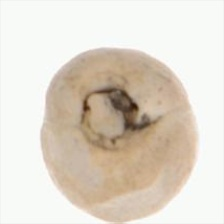L3: (75, 83, 159, 150)
L4: (41, 48, 198, 223)
